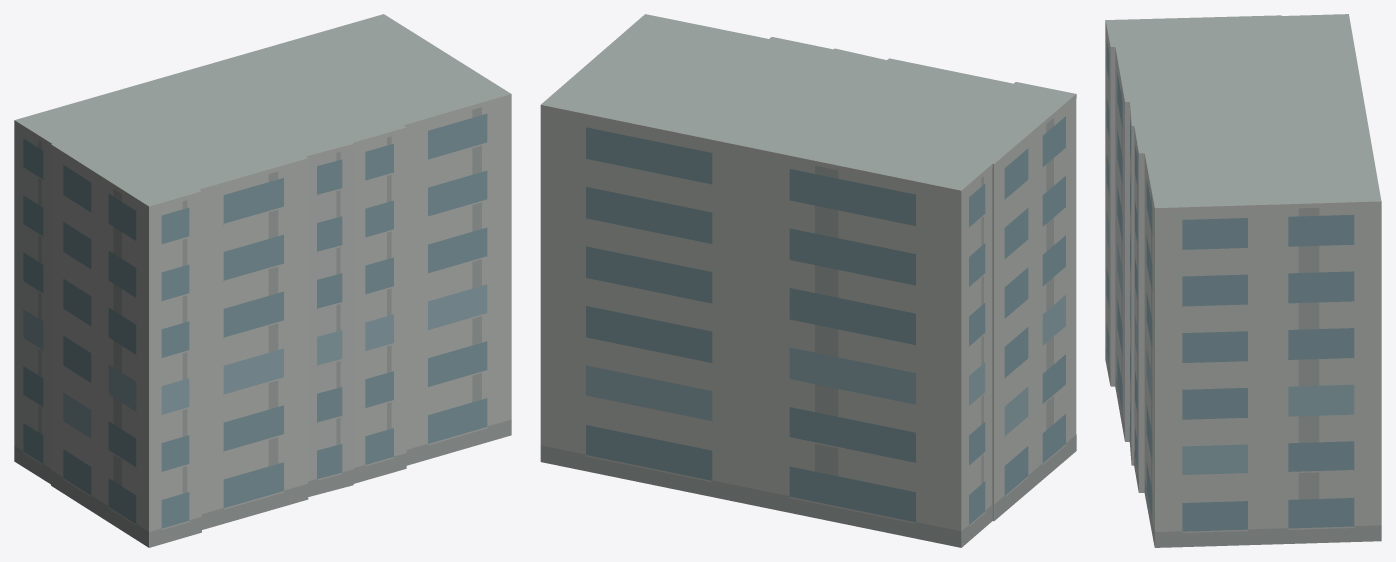
Rendered from survey-upis-32798541.glb.
The picture shows the model from 3 angles, left to right: view 1: azimuth 30°, elevation 25°; view 2: azimuth 150°, elevation 25°; view 3: azimuth 270°, elevation 25°; orthographic projection. The views are drawn at different scales.
Visible parts, largest first — view 1: survey-upis-32798541.tmp; view 2: survey-upis-32798541.tmp; view 3: survey-upis-32798541.tmp.
Part boxes in pixels (left/top/right/bottom): survey-upis-32798541.tmp: left=14, top=14, right=511, bottom=547; survey-upis-32798541.tmp: left=540, top=14, right=1076, bottom=547; survey-upis-32798541.tmp: left=1105, top=14, right=1381, bottom=547.
Bounding box in the file's own units: 22.44 × 18.3 × 13.49.
